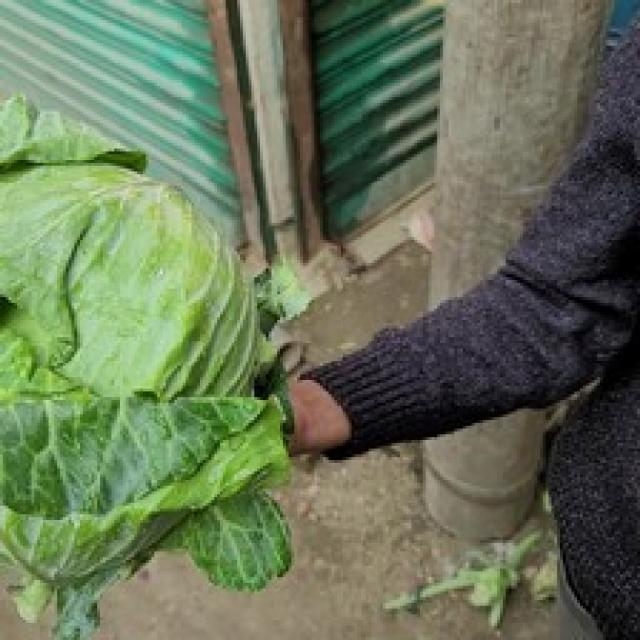Cabbage: (0, 89, 306, 637)
